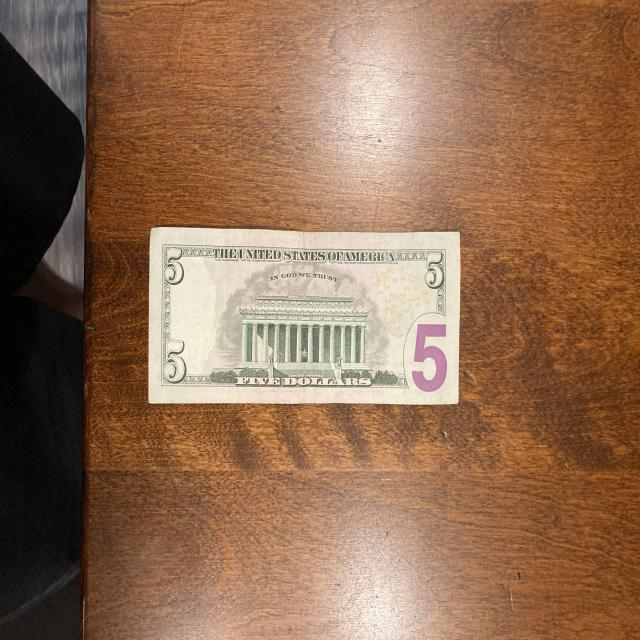five: (148, 226, 462, 404)
